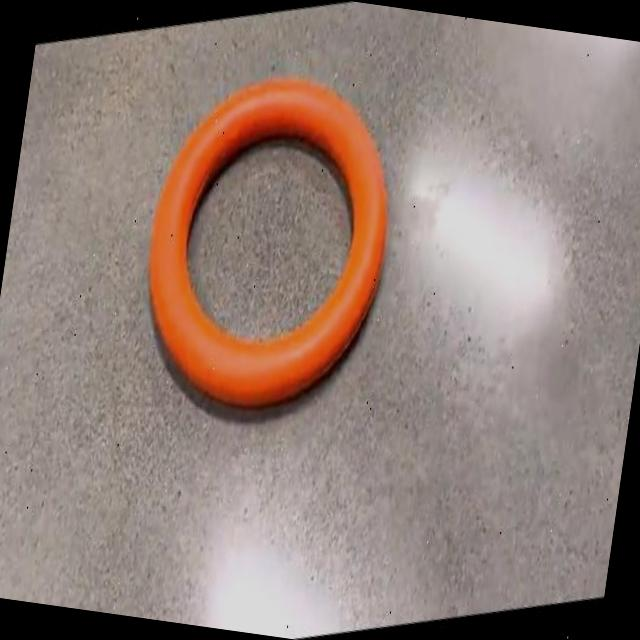note: (149, 80, 387, 405)
